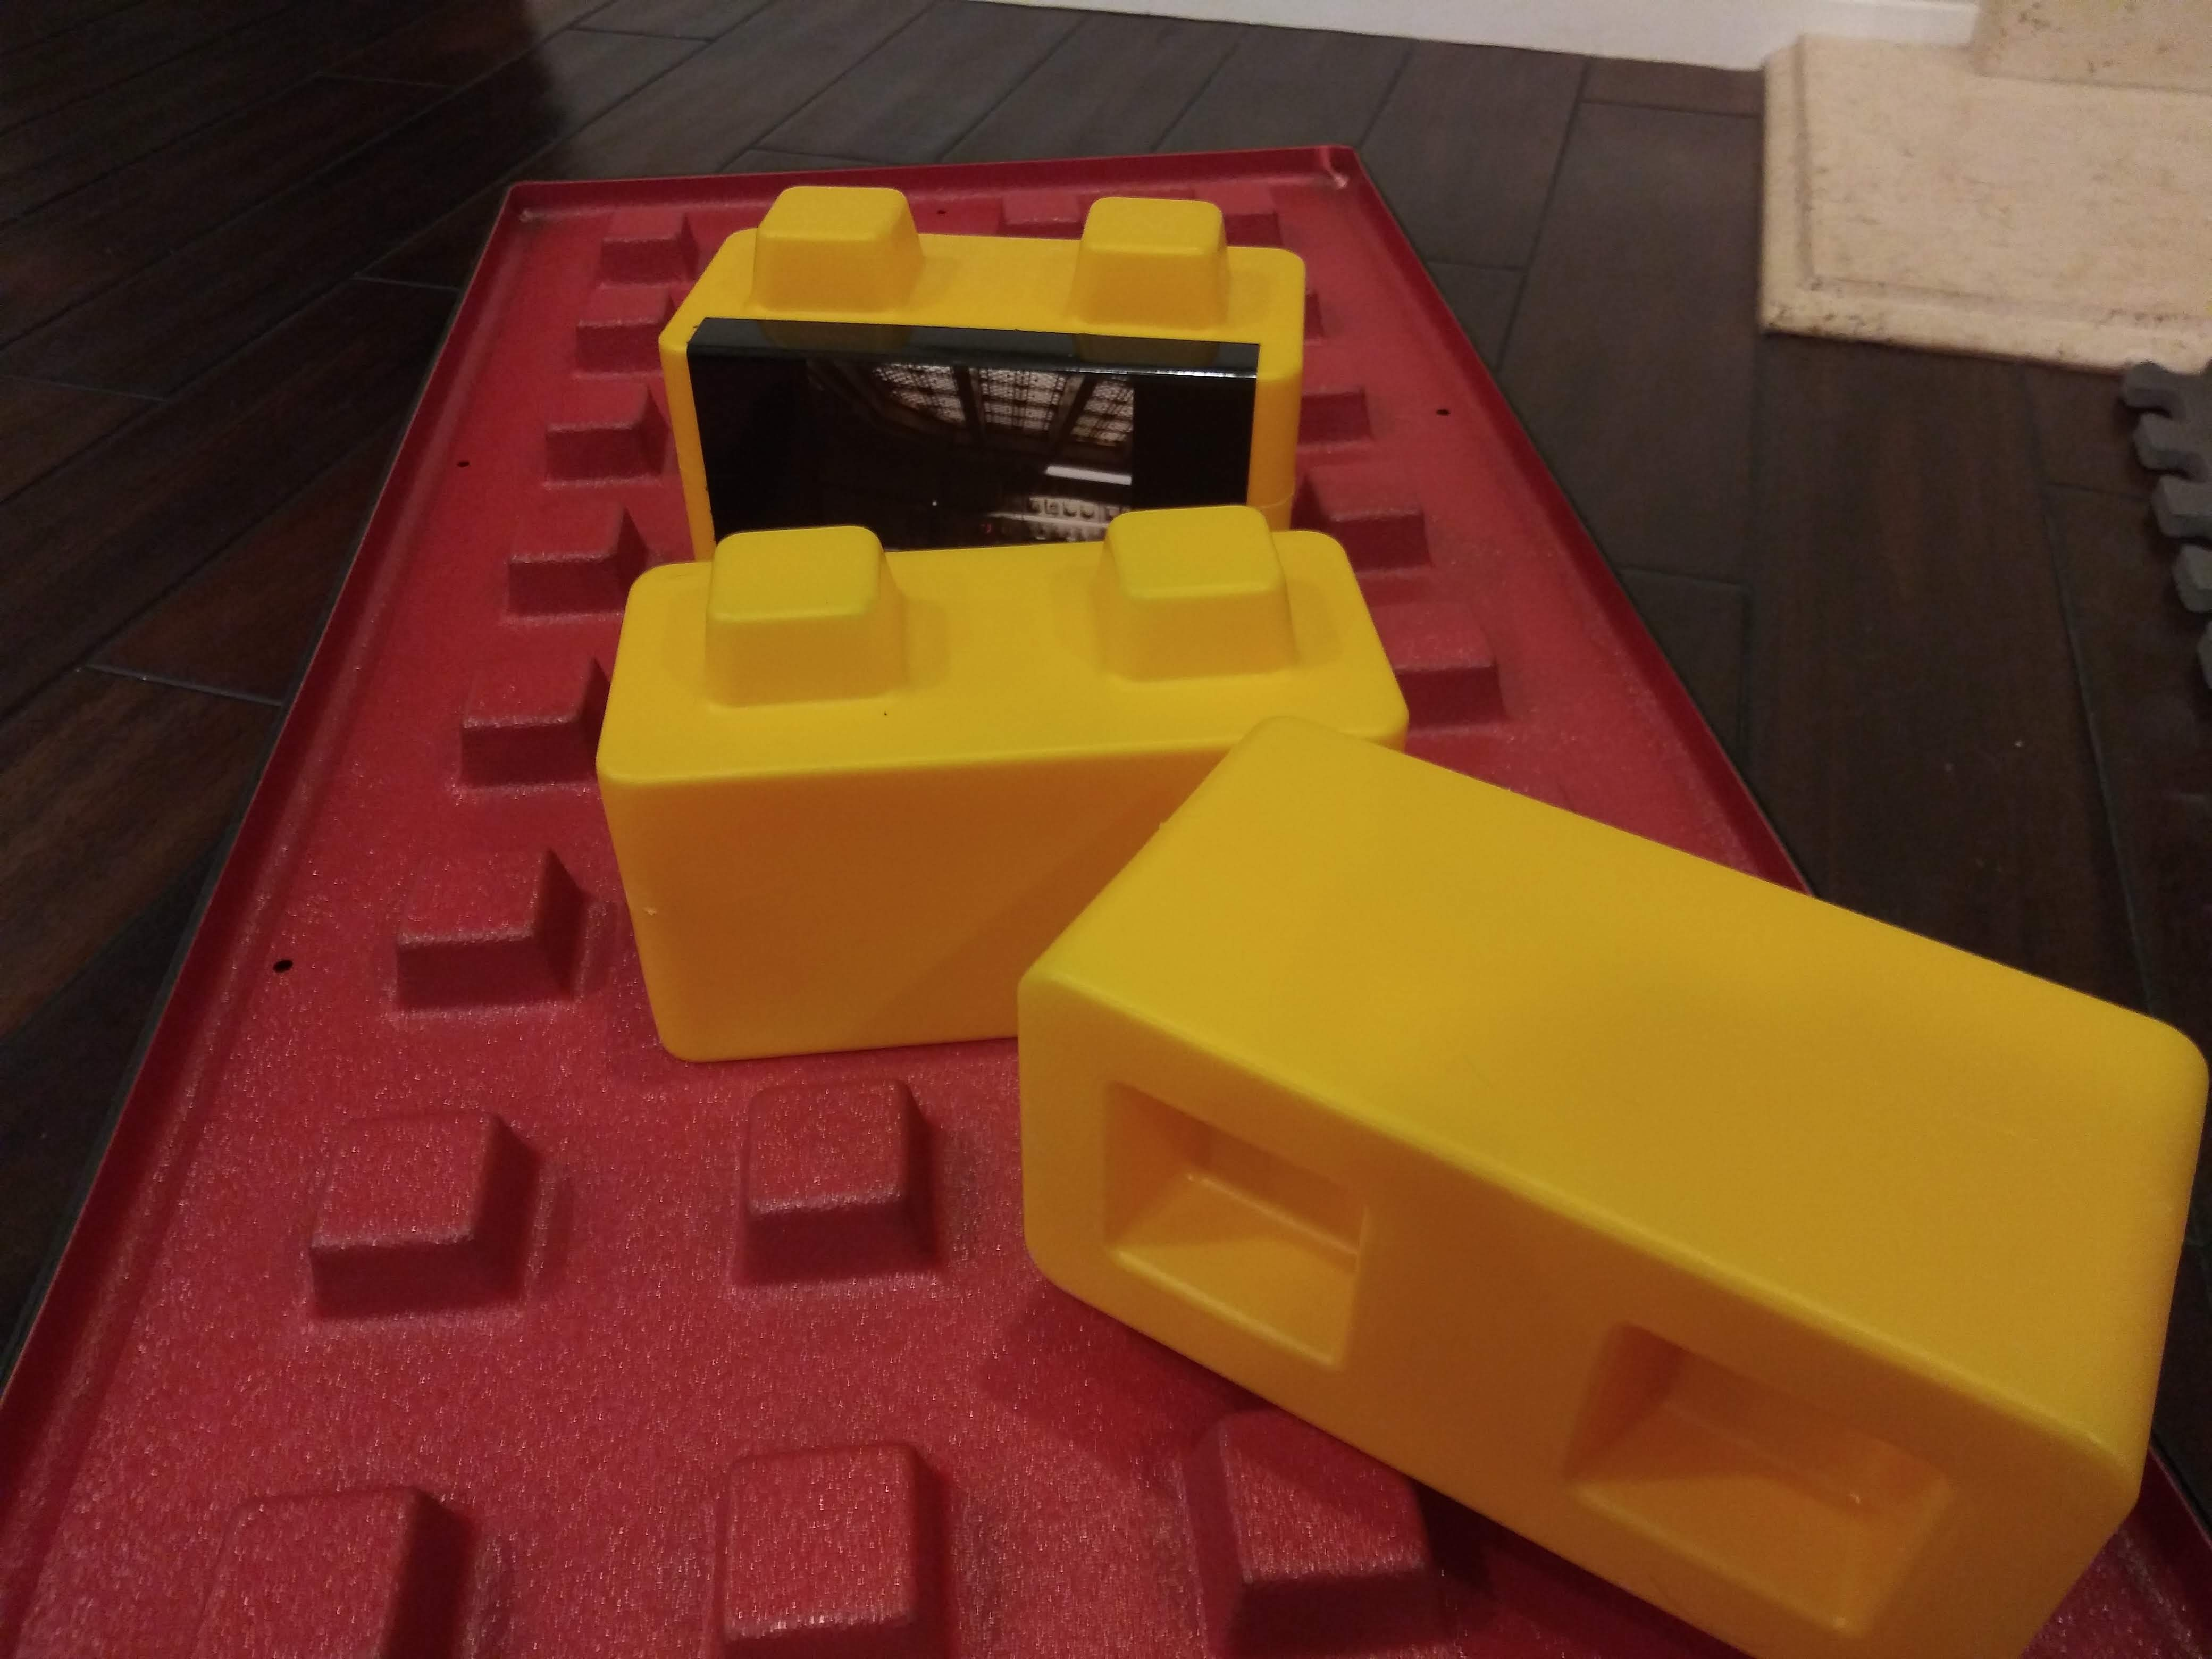skystone: (644, 247, 1325, 502)
stone: (1118, 734, 2149, 1601), (594, 605, 1092, 1040)
